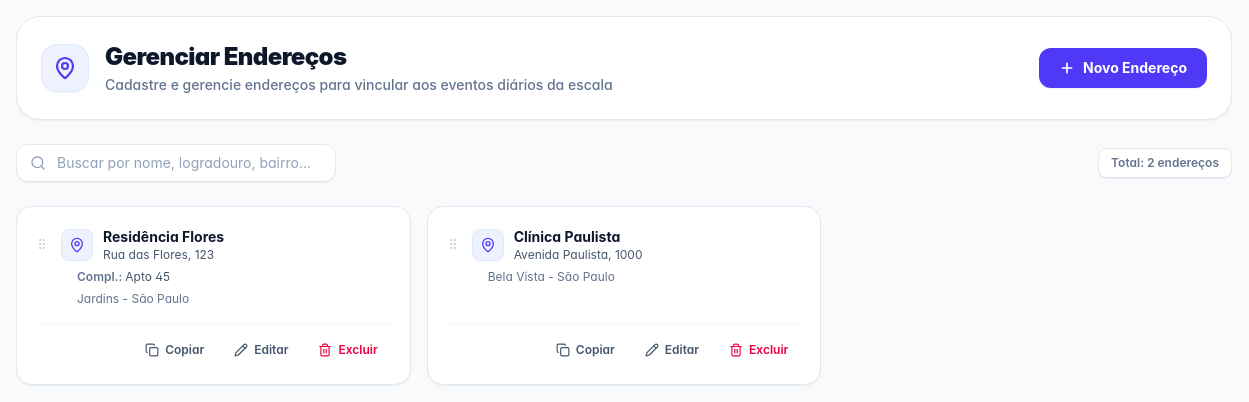
AddressManagementView › copies the address to the clipboard
Click the button with aria-label "Copiar endereço Residência Flores".
click(175, 350)  # box 133,336 -> 216,364
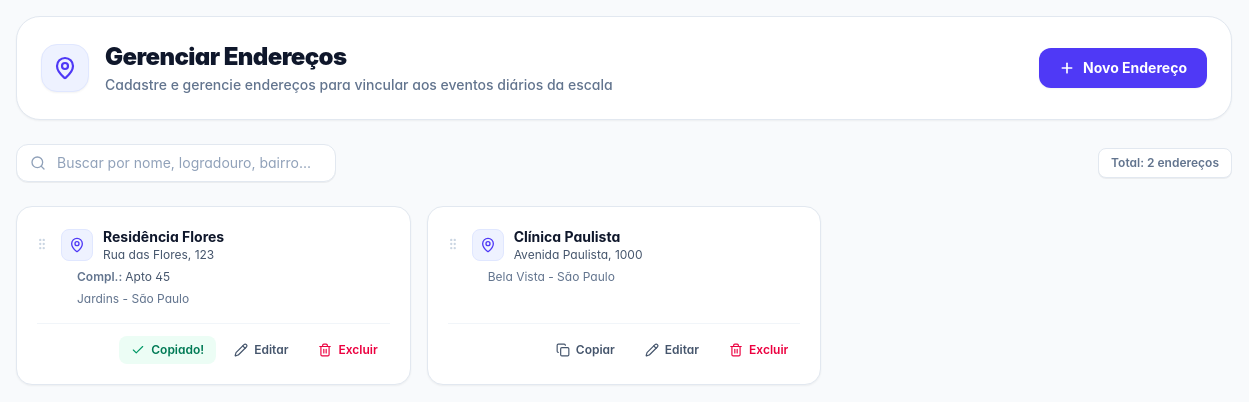
Expected: the text "Copiado!" is shown, 151,342 -> 204,358
